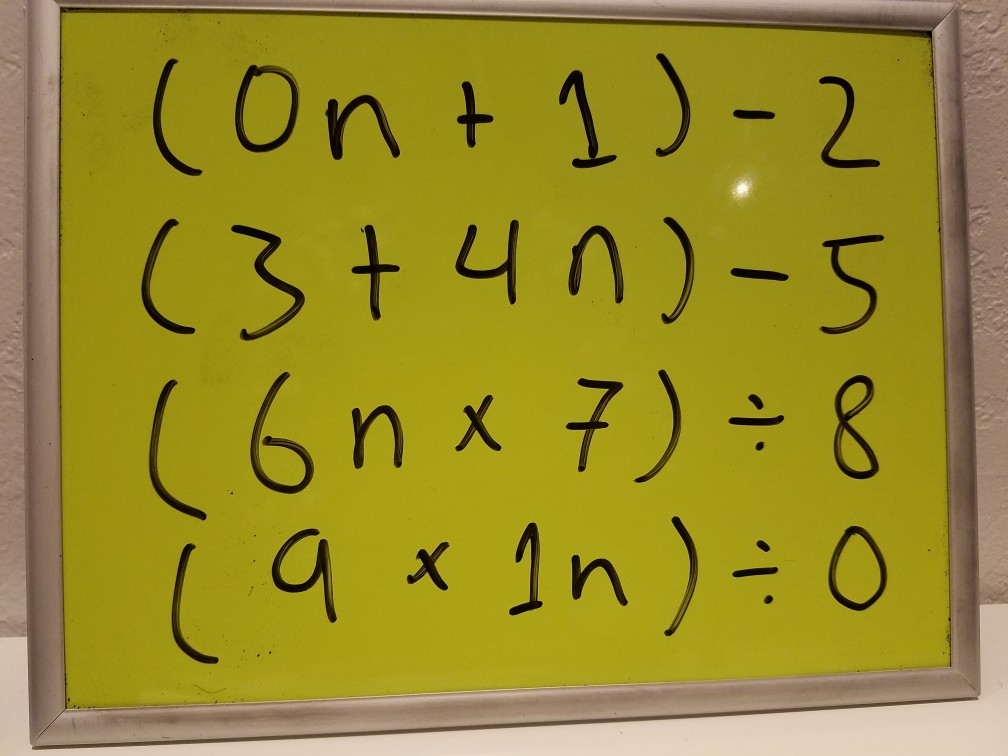(: (141, 373, 211, 528), (158, 539, 227, 683), (130, 211, 201, 344), (140, 44, 203, 182)
): (653, 505, 706, 645), (640, 42, 700, 165), (632, 360, 685, 487), (653, 205, 704, 332)
+: (347, 217, 407, 322), (441, 71, 501, 153)
-: (718, 248, 797, 295), (728, 95, 780, 135)
0: (815, 517, 895, 621), (229, 50, 304, 159)
1: (545, 58, 620, 181), (495, 510, 551, 622)
2: (810, 64, 888, 179)
3: (221, 213, 311, 347)
4: (451, 206, 530, 321)
5: (816, 220, 899, 340)
6: (236, 363, 324, 504)
7: (551, 362, 627, 479)
8: (818, 368, 888, 482)
9: (259, 524, 345, 636)
div: (717, 382, 791, 456), (726, 532, 789, 615)
n: (317, 80, 407, 169), (559, 217, 635, 312), (338, 391, 411, 477), (566, 545, 633, 620)
x: (400, 533, 456, 606), (452, 386, 505, 463)
